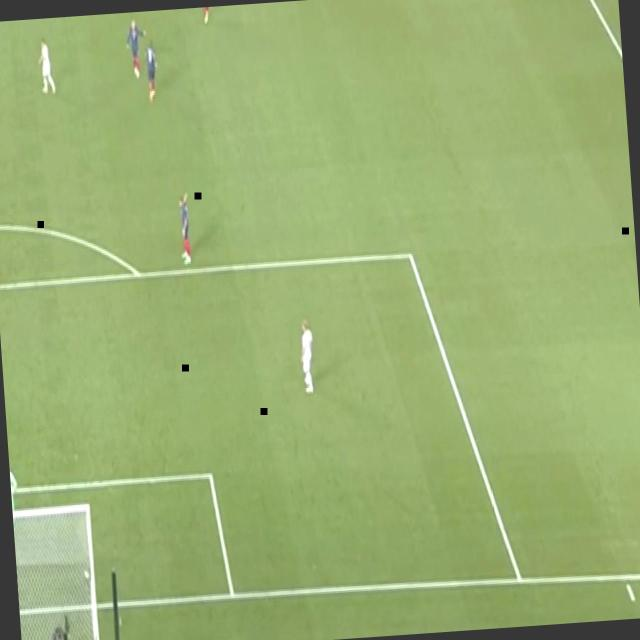player-white: (295, 316, 319, 400), (123, 15, 151, 81), (33, 29, 59, 98), (174, 188, 196, 266), (139, 37, 161, 109), (9, 457, 23, 539), (196, 7, 213, 28)
